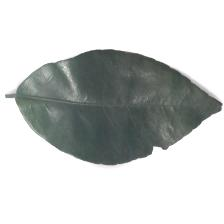healthy: (29, 61, 187, 152)
